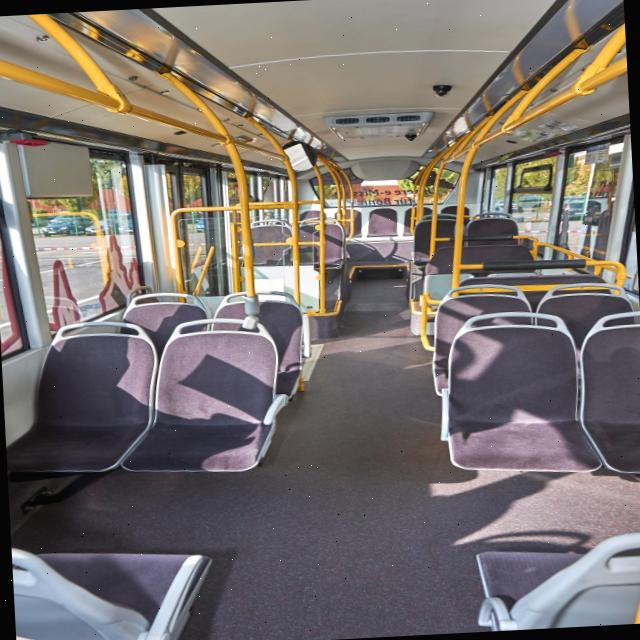empty-seat-frontal: (440, 306, 606, 487), (112, 316, 288, 480), (0, 317, 165, 484)
